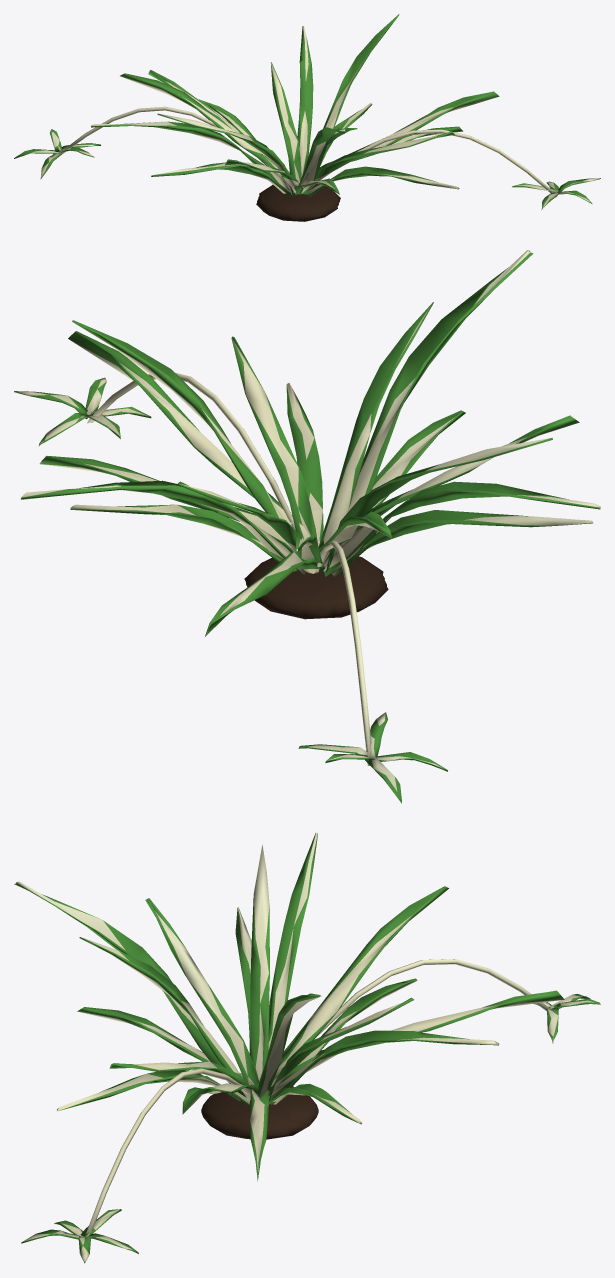
Rendered from canopy_spider_tuft_lod1.glb.
3 renders of one model, top to bottom at view 1: azimuth 30°, elevation 25°; view 2: azimuth 150°, elevation 25°; view 3: azimuth 270°, elevation 25°, orthographic. The views are drawn at different scales.
Visible parts, largest first — view 1: canopy_spider_tuft.001; view 2: canopy_spider_tuft.001; view 3: canopy_spider_tuft.001.
Part boxes in pixels (bbox=[...]): canopy_spider_tuft.001: bbox=[14, 14, 600, 221]; canopy_spider_tuft.001: bbox=[14, 250, 600, 803]; canopy_spider_tuft.001: bbox=[14, 833, 600, 1263].
Size of the model in its own units: 14.71 by 5.07 by 12.39.
